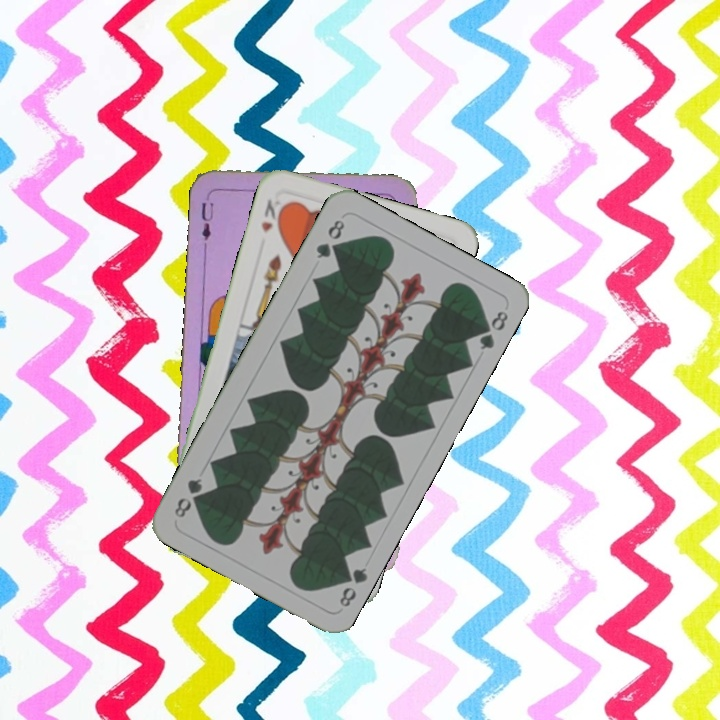EU: (197, 190, 217, 249)
G8: (334, 563, 370, 610), (312, 215, 347, 262)
HK: (257, 192, 288, 235)
